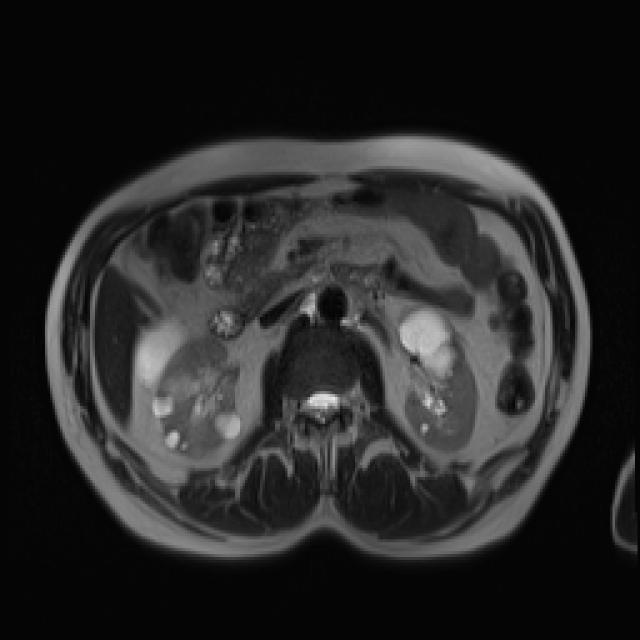sag: (134, 315, 242, 465)
sol: (400, 304, 478, 455)
